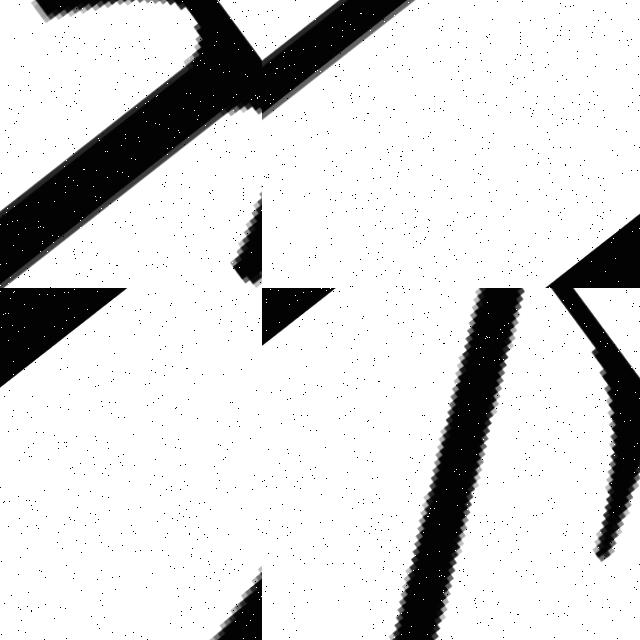J: (262, 0, 640, 288)
T: (0, 288, 262, 640), (0, 0, 262, 288)
Z: (262, 288, 640, 640)
